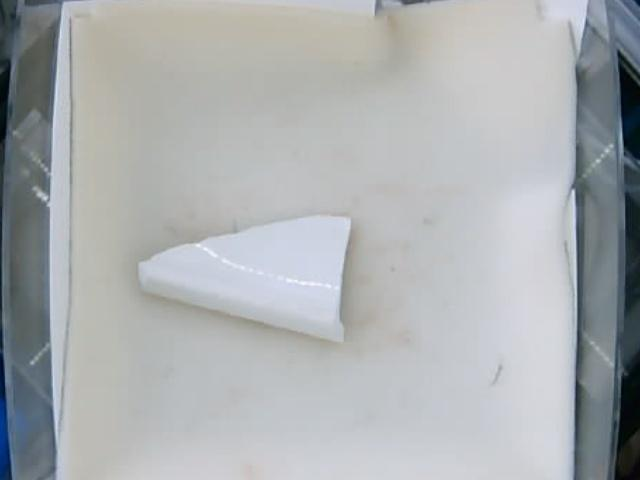China: (137, 216, 356, 344)
